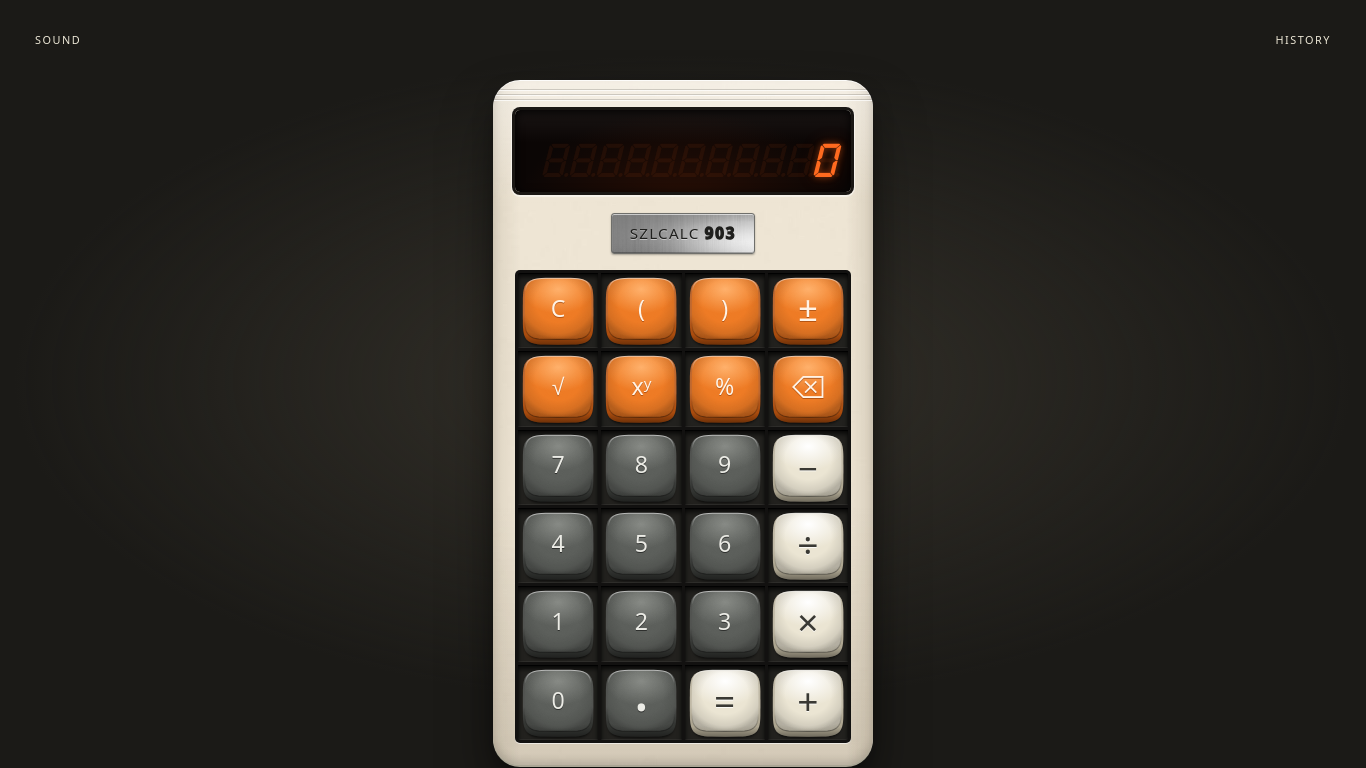
Test: App › sends the expression to the API and shows the result
What coordinates should you click on to do the following:
click the button "2"
I would click on:
 (641, 624)
Its box is x1=601 y1=586 x2=682 y2=662.
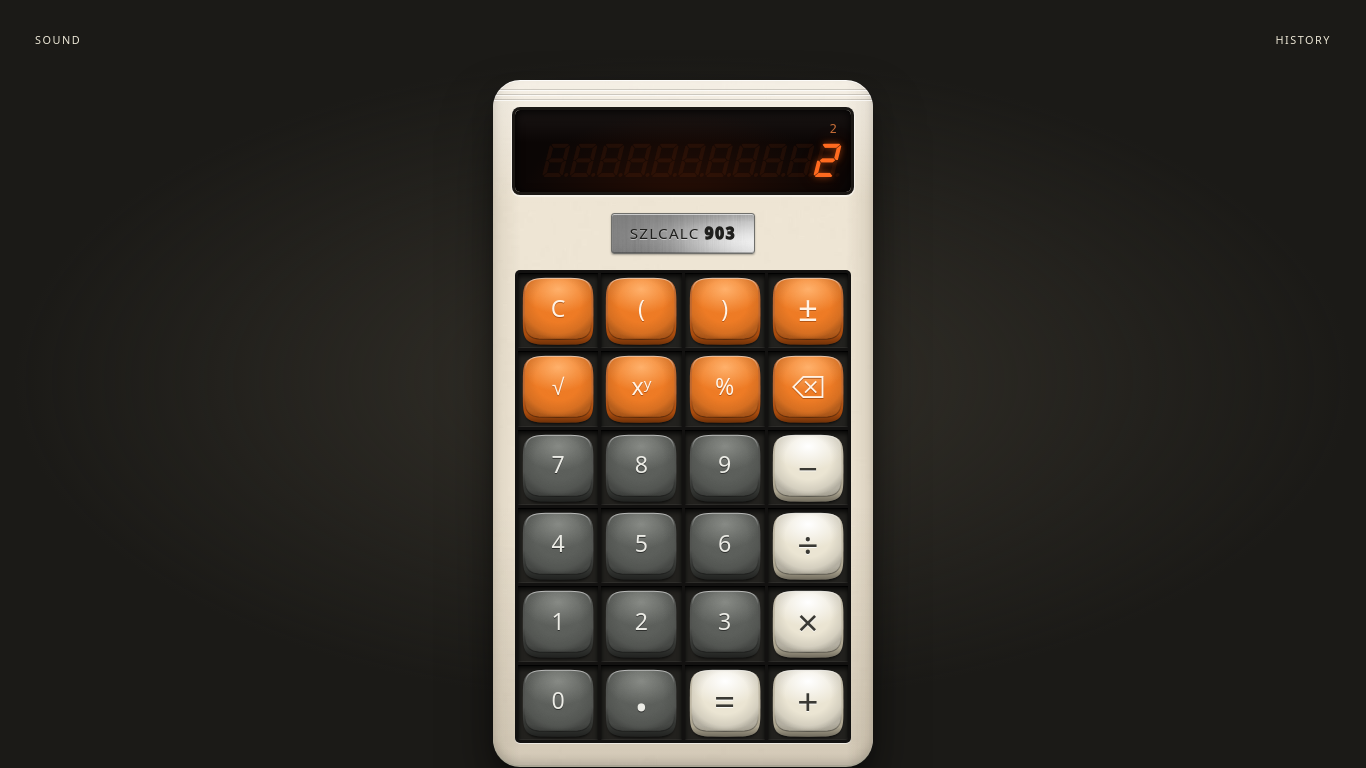
What coordinates should you click on to do the following:
click the button named "plus"
I would click on:
 (808, 703)
Its box is x1=768 y1=665 x2=848 y2=740.
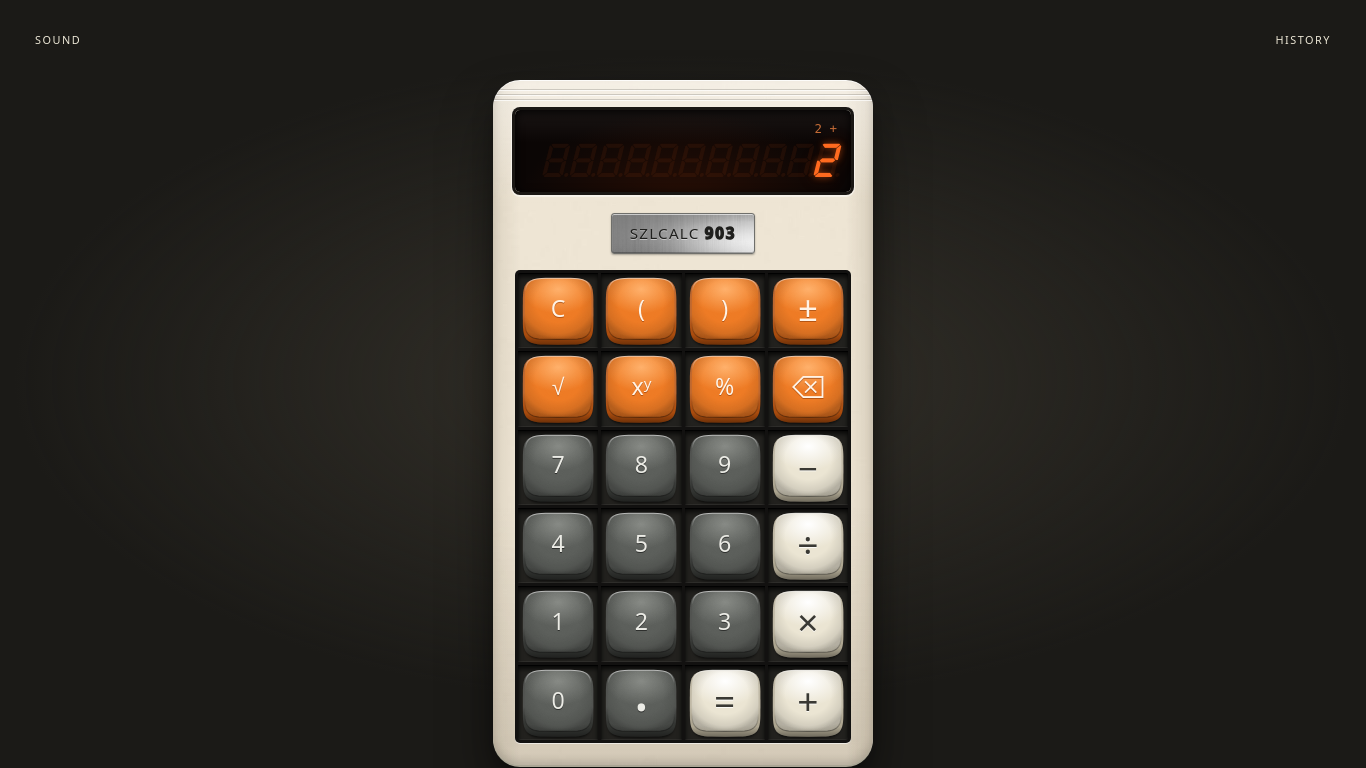
What coordinates should you click on to do the following:
click the button "3"
I would click on:
 (725, 624)
Its box is x1=684 y1=586 x2=765 y2=662.
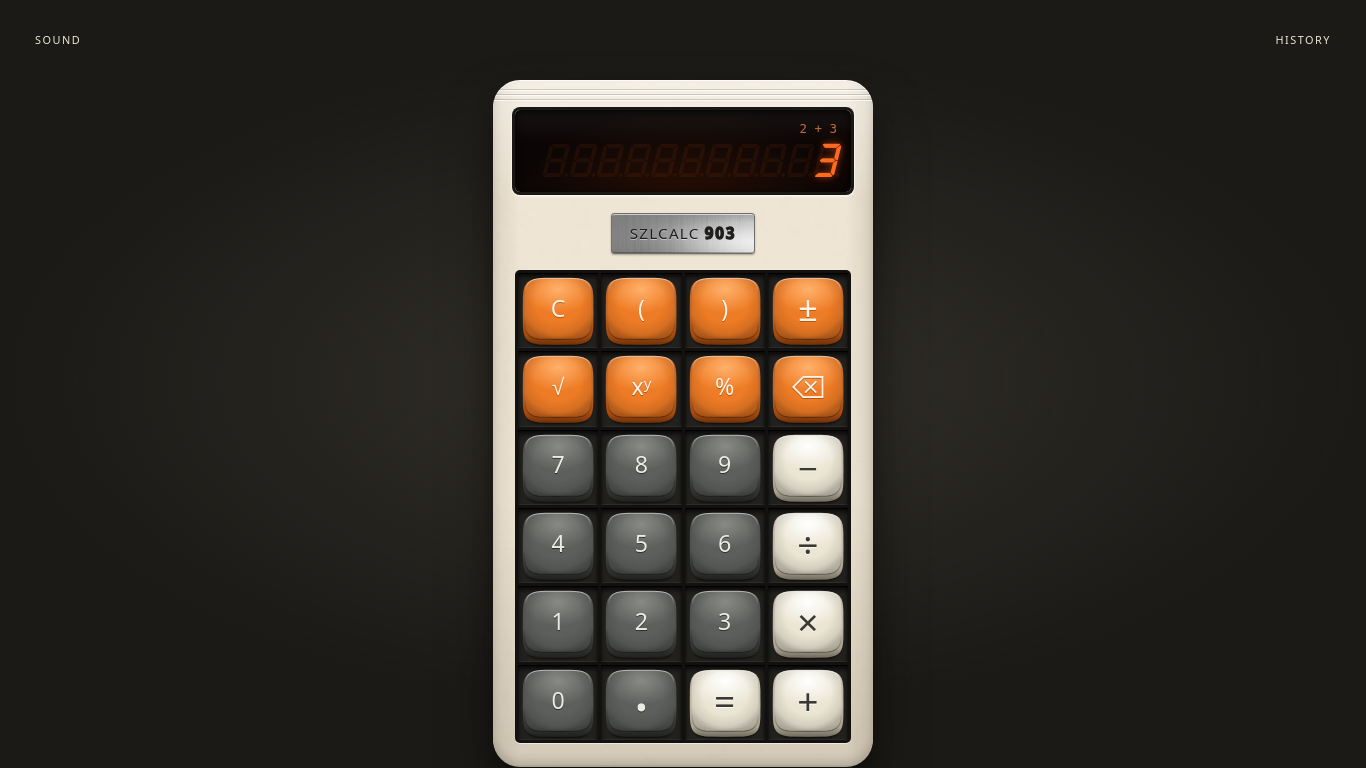
What coordinates should you click on to do the following:
click the button named "times"
I would click on:
 (808, 624)
Its box is x1=768 y1=586 x2=848 y2=662.
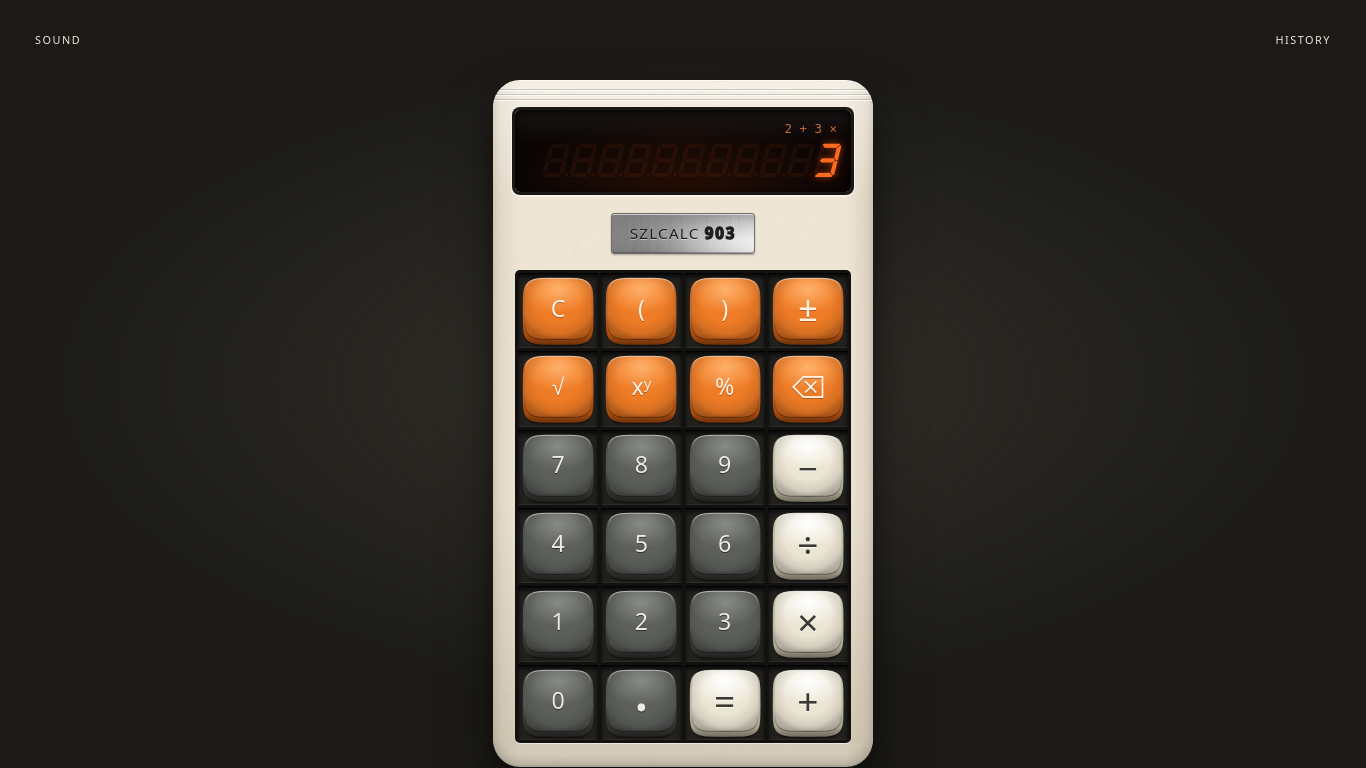
What coordinates should you click on to do the following:
click the button "4"
I would click on:
 (558, 546)
Its box is x1=518 y1=508 x2=598 y2=583.
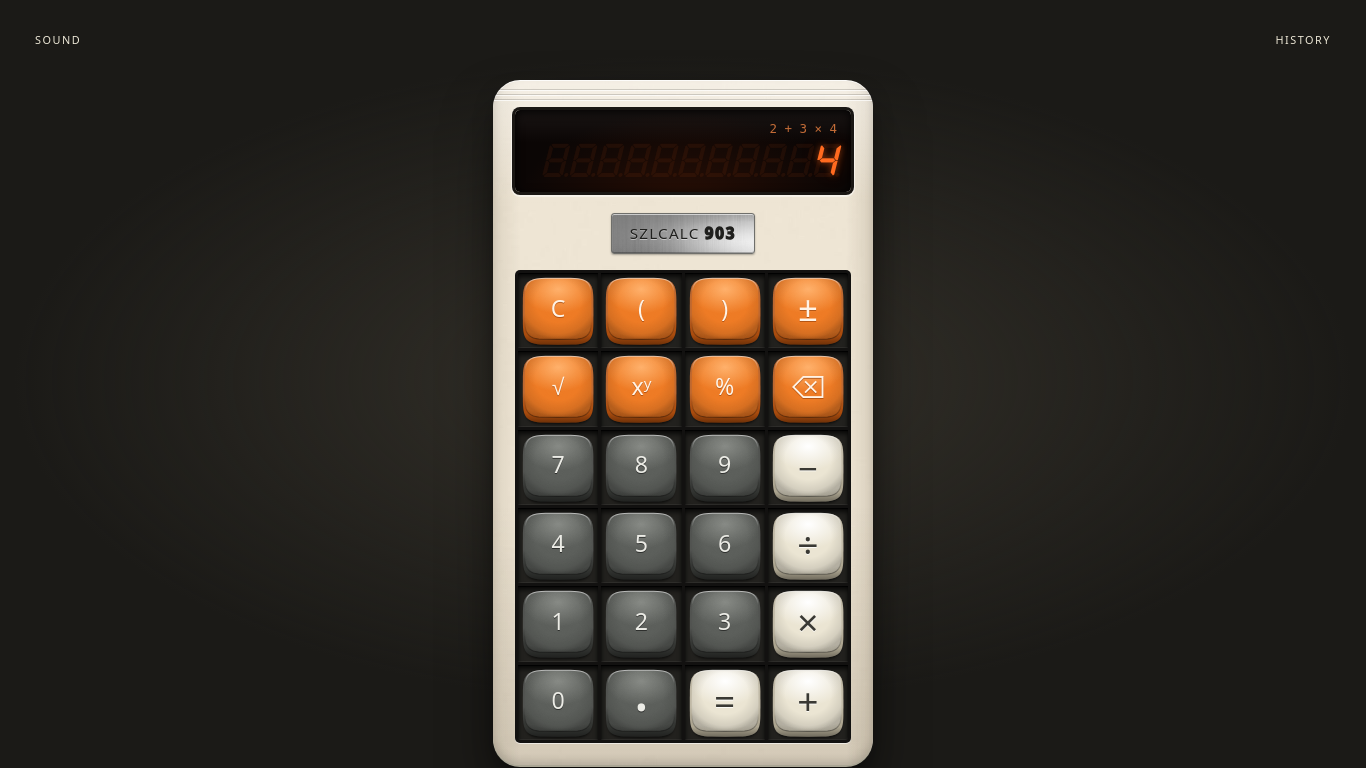
Now the element named "Expression: 2 + 3 × 4" is shown, box x1=769 y1=121 x2=837 y2=136
What coordinates should you click on to do the following:
click the button named "equals"
I would click on:
 (725, 703)
Its box is x1=684 y1=665 x2=765 y2=740.
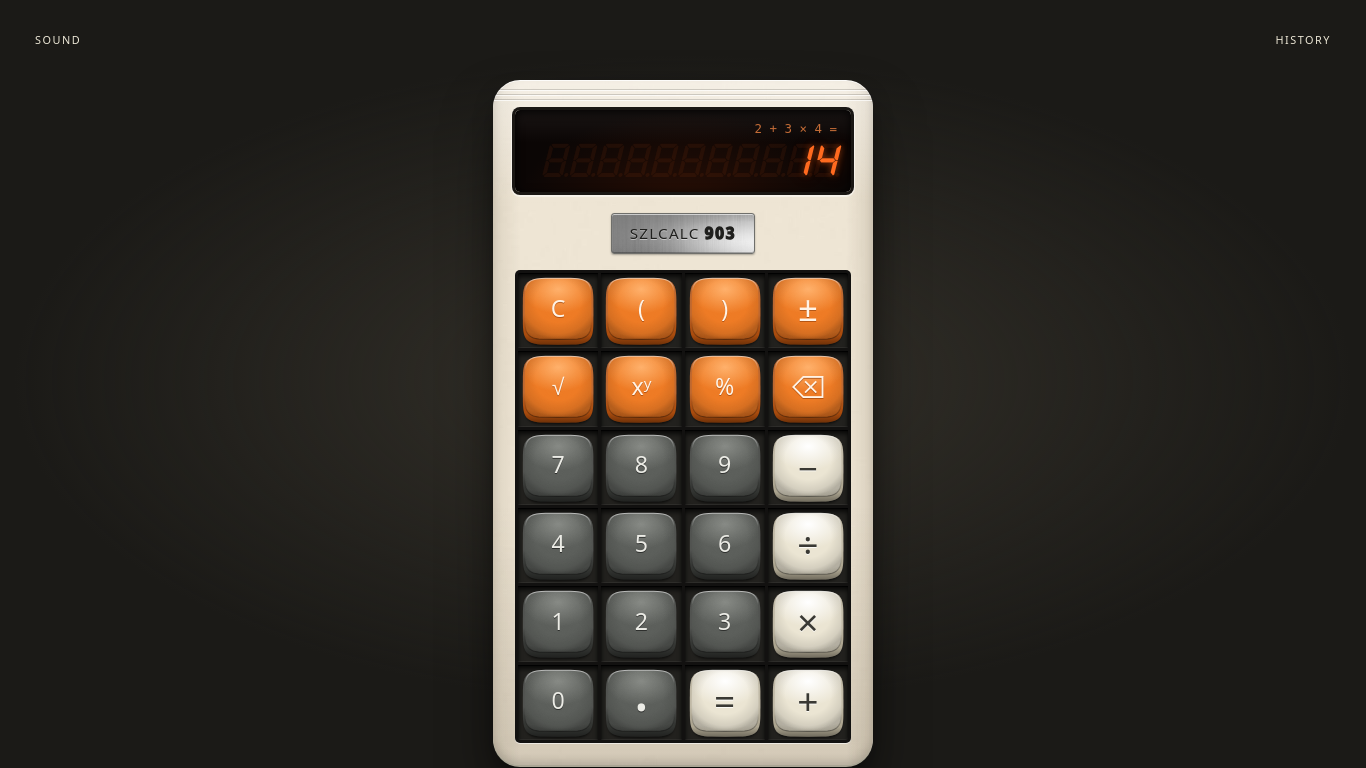
Now the element named "Expression: 2 + 3 × 4 =" is shown, box x1=754 y1=121 x2=837 y2=136
